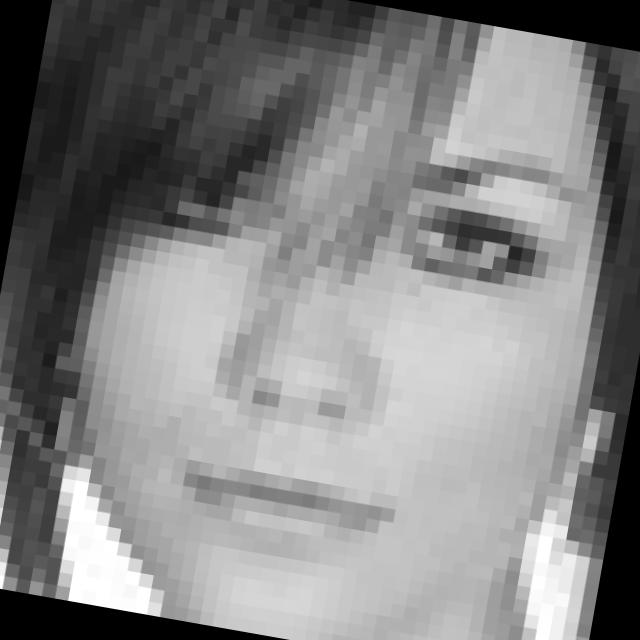neutral: (92, 80, 597, 602)
